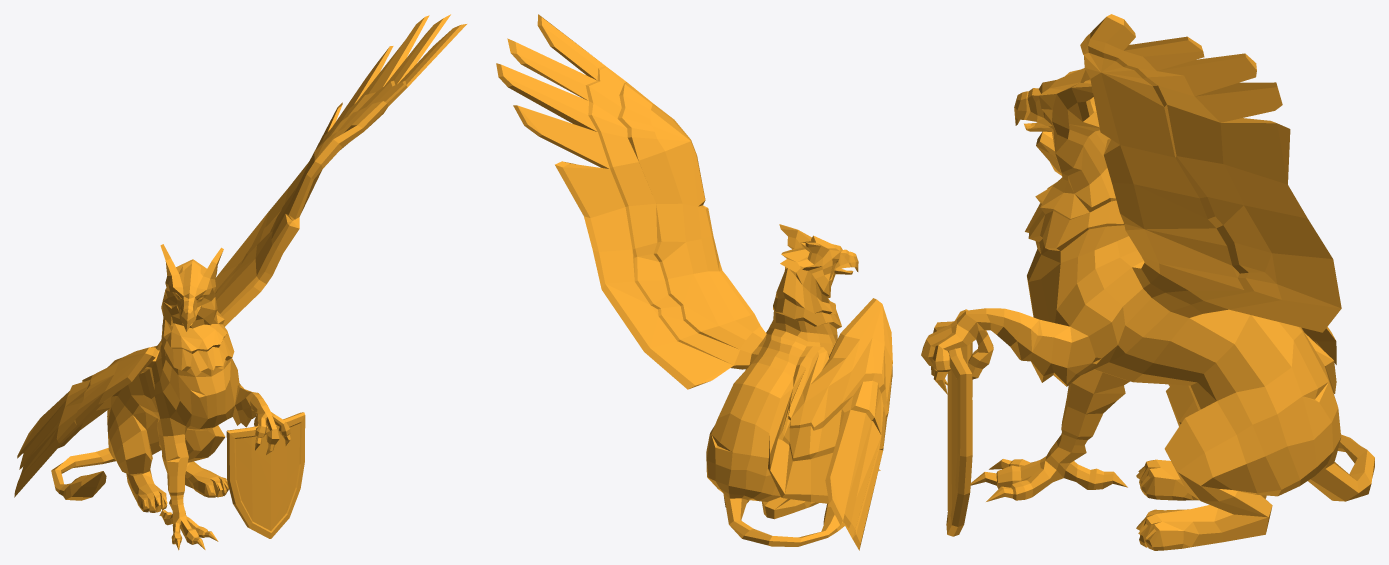
Rendered from SM_Statue_Gryphon_A_Fantasy.fbx.
3 views of the same model, side by side, from view 1: azimuth 30°, elevation 25°; view 2: azimuth 150°, elevation 25°; view 3: azimuth 270°, elevation 25° (orthographic). The views are drawn at different scales.
Visible parts, largest first — view 1: SM_Statue_Gryphon_Fantasy_A; view 2: SM_Statue_Gryphon_Fantasy_A; view 3: SM_Statue_Gryphon_Fantasy_A.
Boxes of the visible parts, box(x1,y1,x2,y2) form: SM_Statue_Gryphon_Fantasy_A: box(14, 14, 466, 550); SM_Statue_Gryphon_Fantasy_A: box(496, 14, 892, 550); SM_Statue_Gryphon_Fantasy_A: box(921, 14, 1374, 550).
Bounding box in the file's own units: 4.01 × 4.03 × 2.29.
